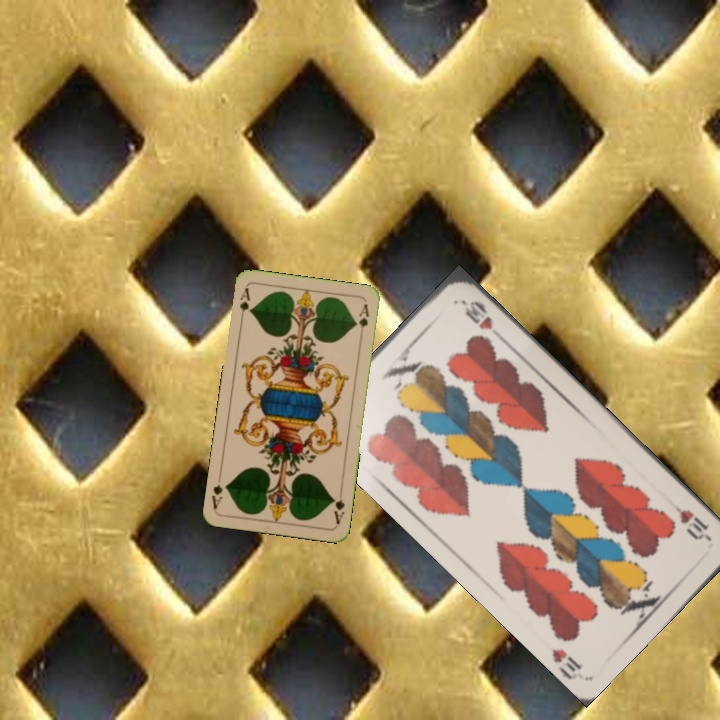GA: (235, 283, 253, 324), (329, 486, 347, 526)
H10: (666, 498, 714, 544)
